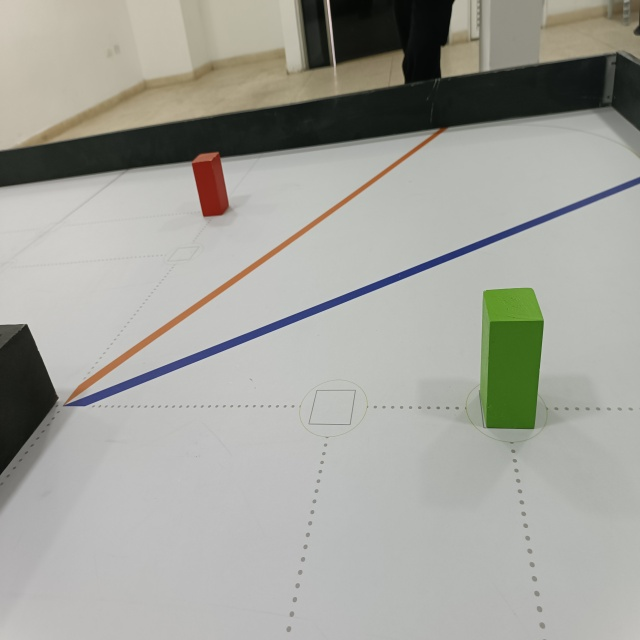blue line: (64, 173, 640, 411)
green rectangular prism: (477, 287, 553, 438)
orange line: (65, 121, 446, 403)
red rectangular prism: (185, 150, 232, 220)
